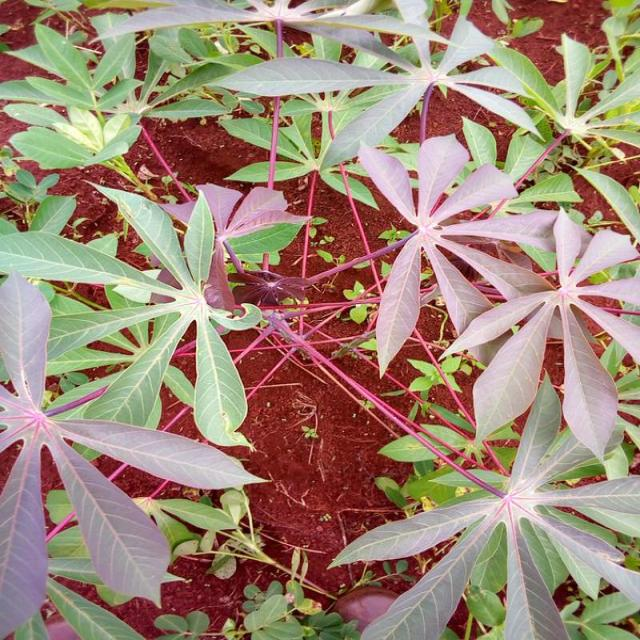cassava leaf: (0, 1, 638, 638), (0, 268, 268, 636), (326, 366, 640, 638)
